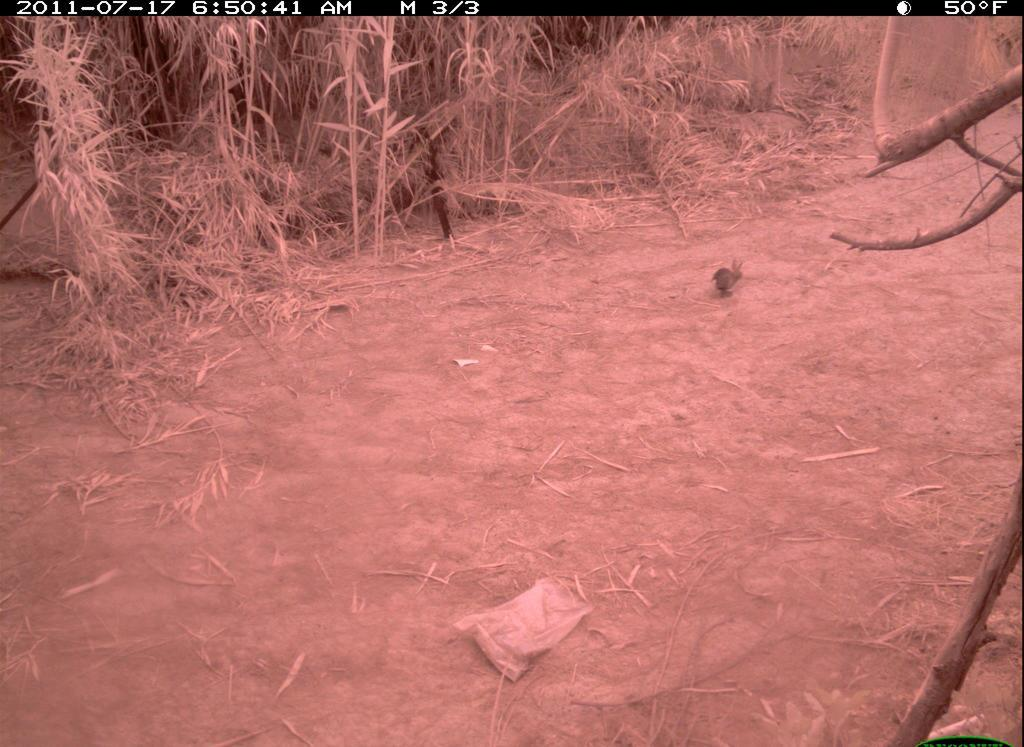rabbit: (697, 246, 753, 303)
